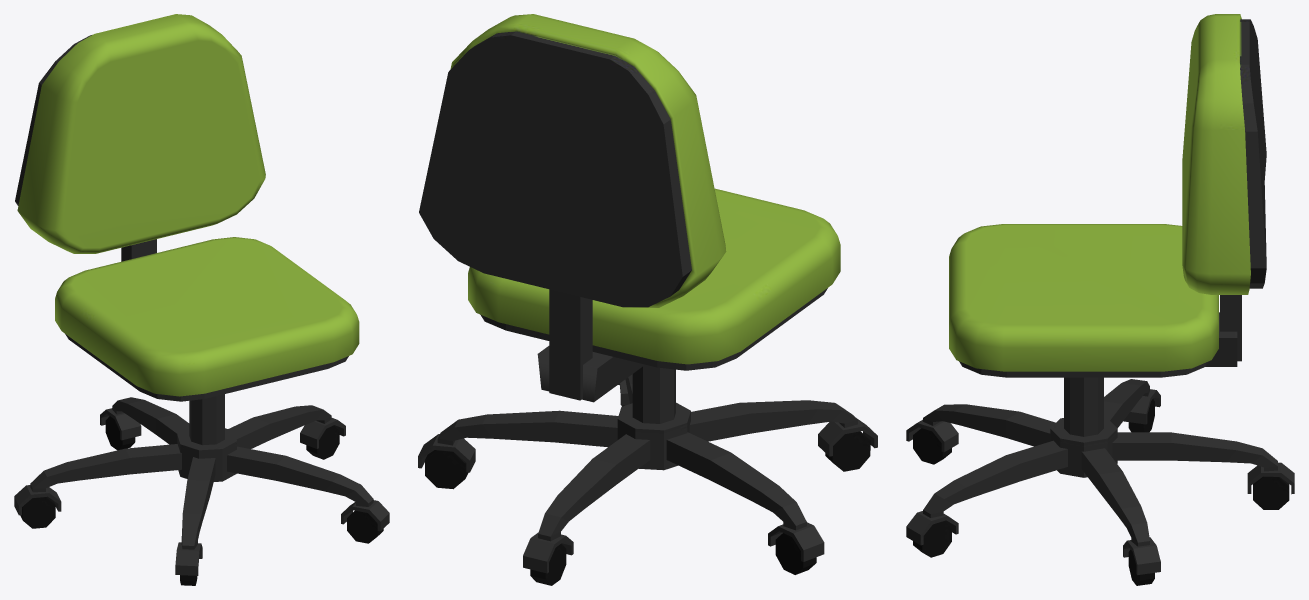
File: AIE_Chair_Green.glb
The picture shows the model from 3 angles, left to right: view 1: azimuth 30°, elevation 25°; view 2: azimuth 150°, elevation 25°; view 3: azimuth 270°, elevation 25°; orthographic projection. The views are drawn at different scales.
Visible parts, largest first — view 1: Chair4_single_material; view 2: Chair4_single_material; view 3: Chair4_single_material.
Part boxes in pixels (x1,y1,x2,y2): Chair4_single_material: (14,14,389,585); Chair4_single_material: (418,14,877,585); Chair4_single_material: (906,14,1294,585).
Bounding box in the file's own units: 0.8129 × 1.03 × 0.7731.
Materials: 1 (1 with a texture image).
